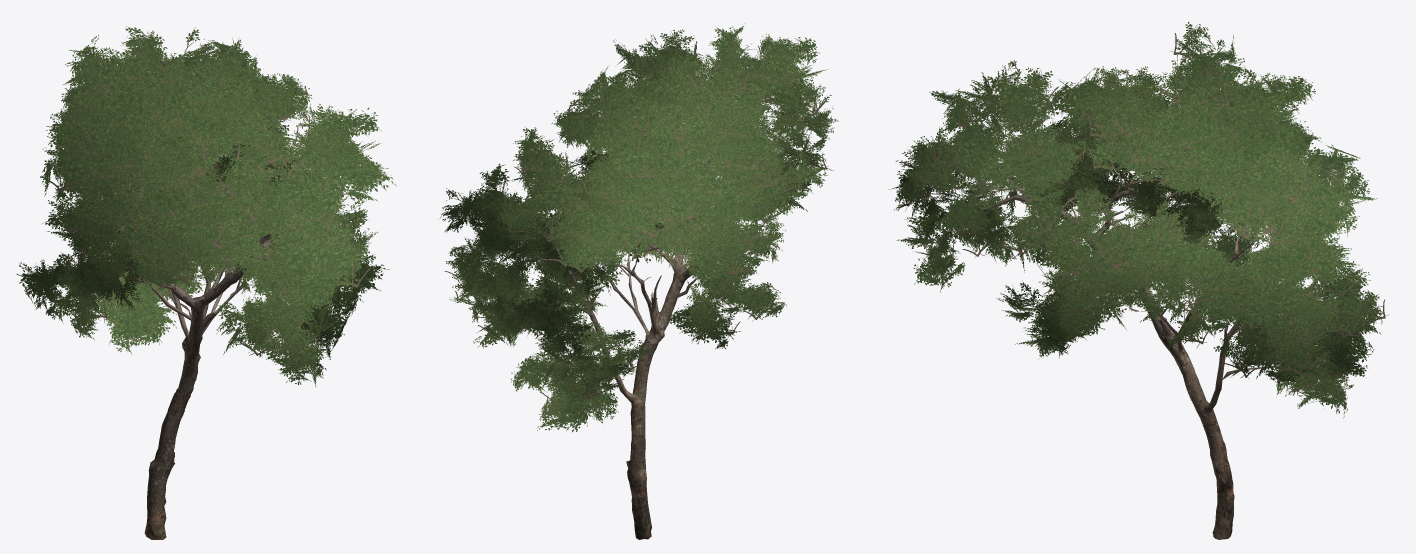
File: street_tree_01.glb
3 renders of one model, left to right at view 1: azimuth 30°, elevation 25°; view 2: azimuth 150°, elevation 25°; view 3: azimuth 270°, elevation 25°, orthographic. The views are drawn at different scales.
Parts seen in each view (by area): view 1: street_tree_01_leaves, street_tree_01_bark; view 2: street_tree_01_leaves, street_tree_01_bark; view 3: street_tree_01_leaves, street_tree_01_bark.
Part boxes in pixels (x1,y1,x2,y2): street_tree_01_leaves: (16,26,396,387); street_tree_01_bark: (111,131,283,539); street_tree_01_leaves: (438,23,838,432); street_tree_01_bark: (526,95,773,539); street_tree_01_leaves: (889,22,1389,417); street_tree_01_bark: (976,140,1277,539).
Size of the model in its own units: 5.58 by 8.01 by 7.83.
Materials: 3 (3 with a texture image).
